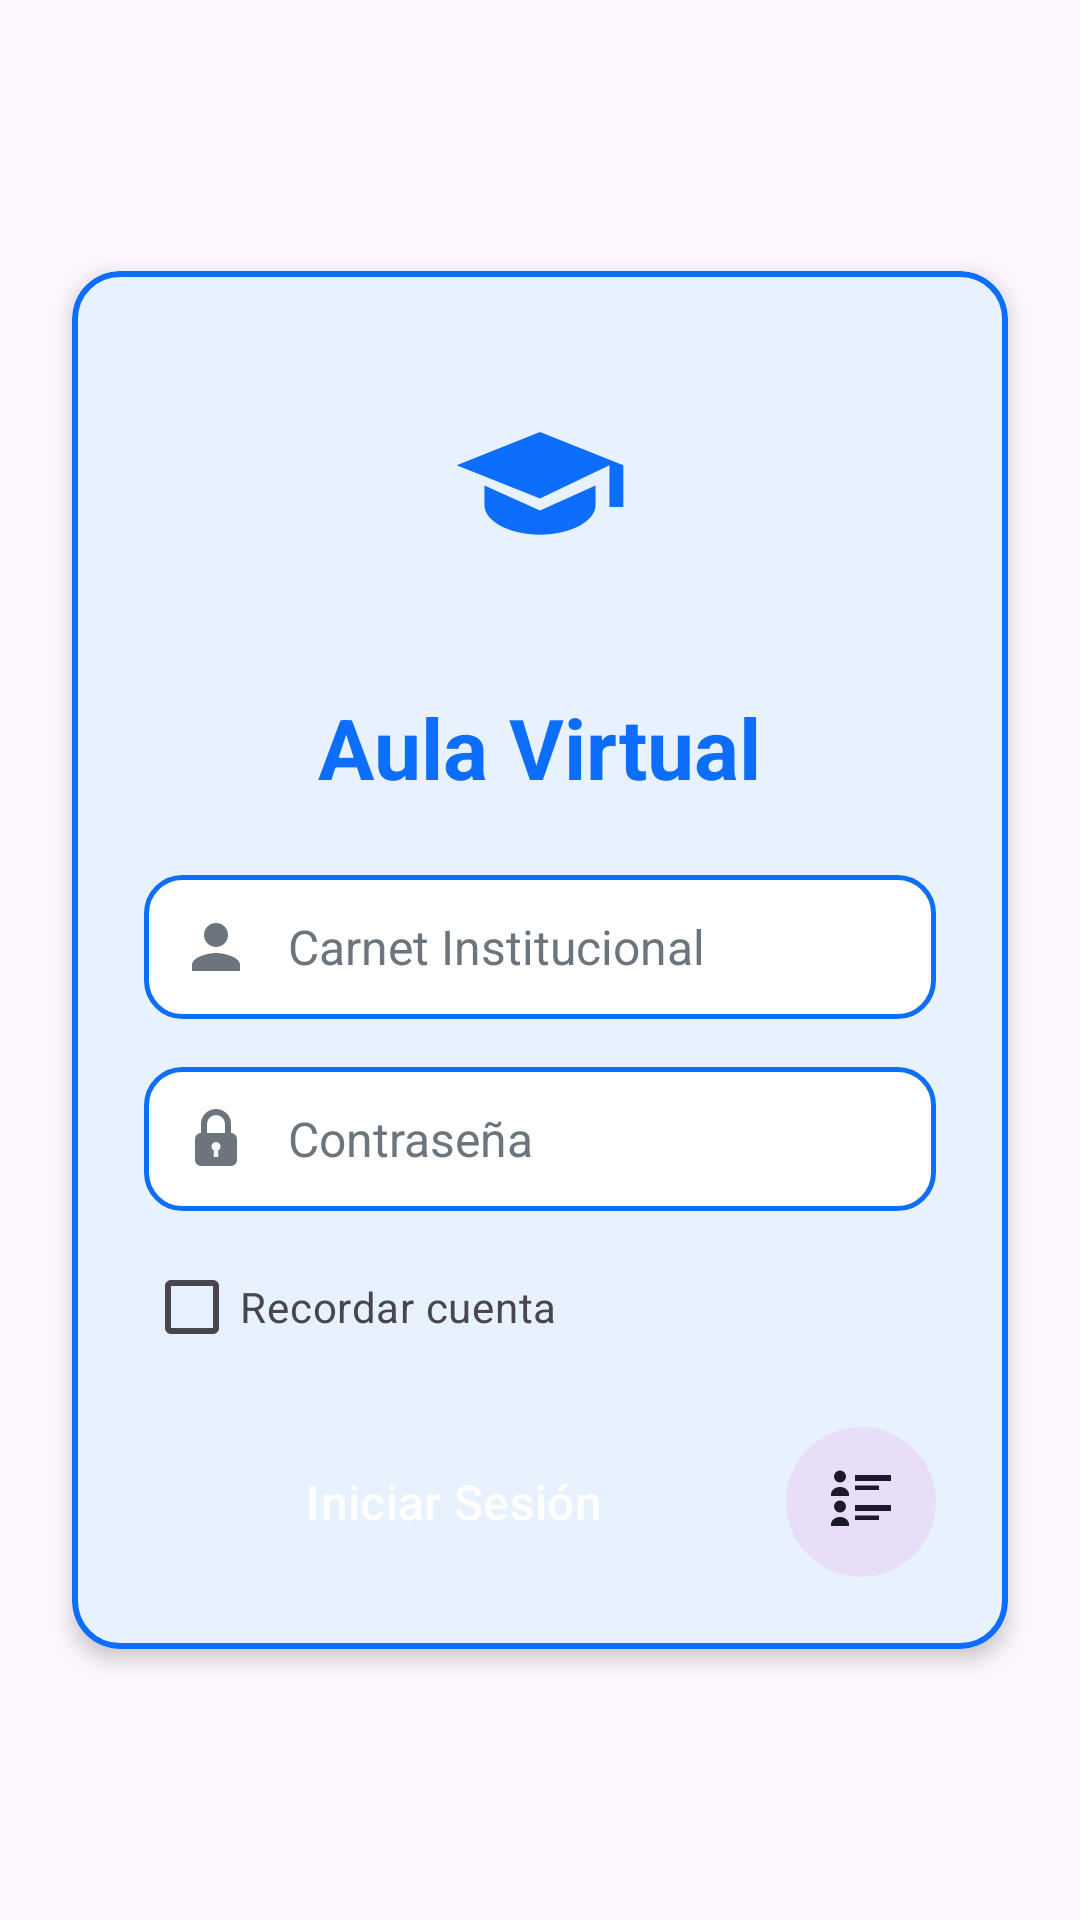

Point at icon controls on the screen. Image size 1080 x 1920, points as (x=x, y=y).
account list: (x=861, y=1502)
